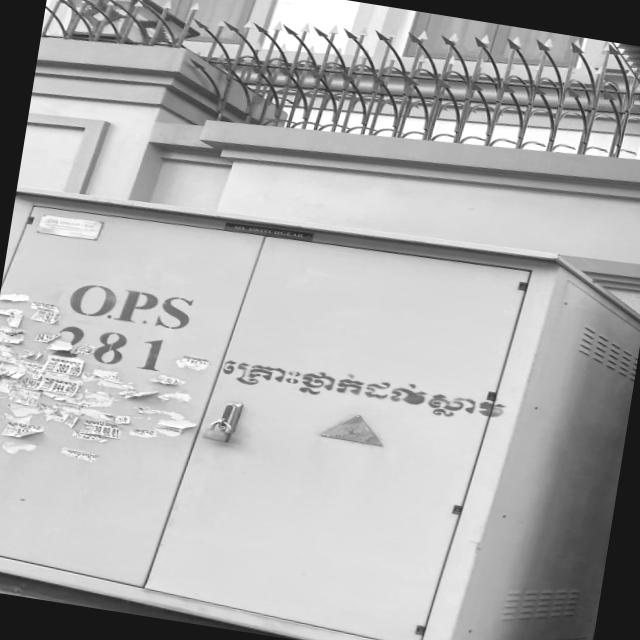693: (42, 319, 181, 378)
Yolov11kh: (213, 347, 516, 428)
